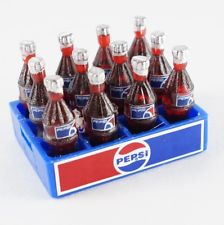pepsi: (116, 138, 148, 171)
